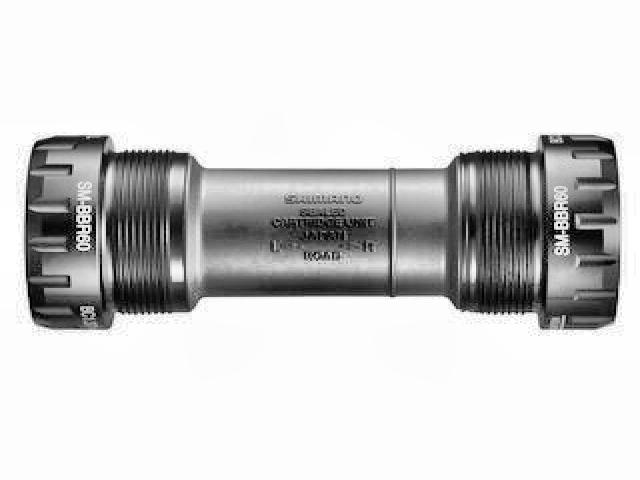bottom_bracket: (25, 131, 624, 333)
